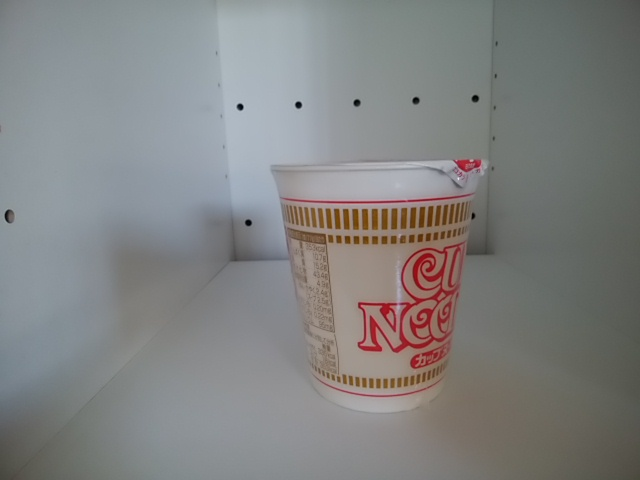cup-ramen: (263, 153, 494, 423)
